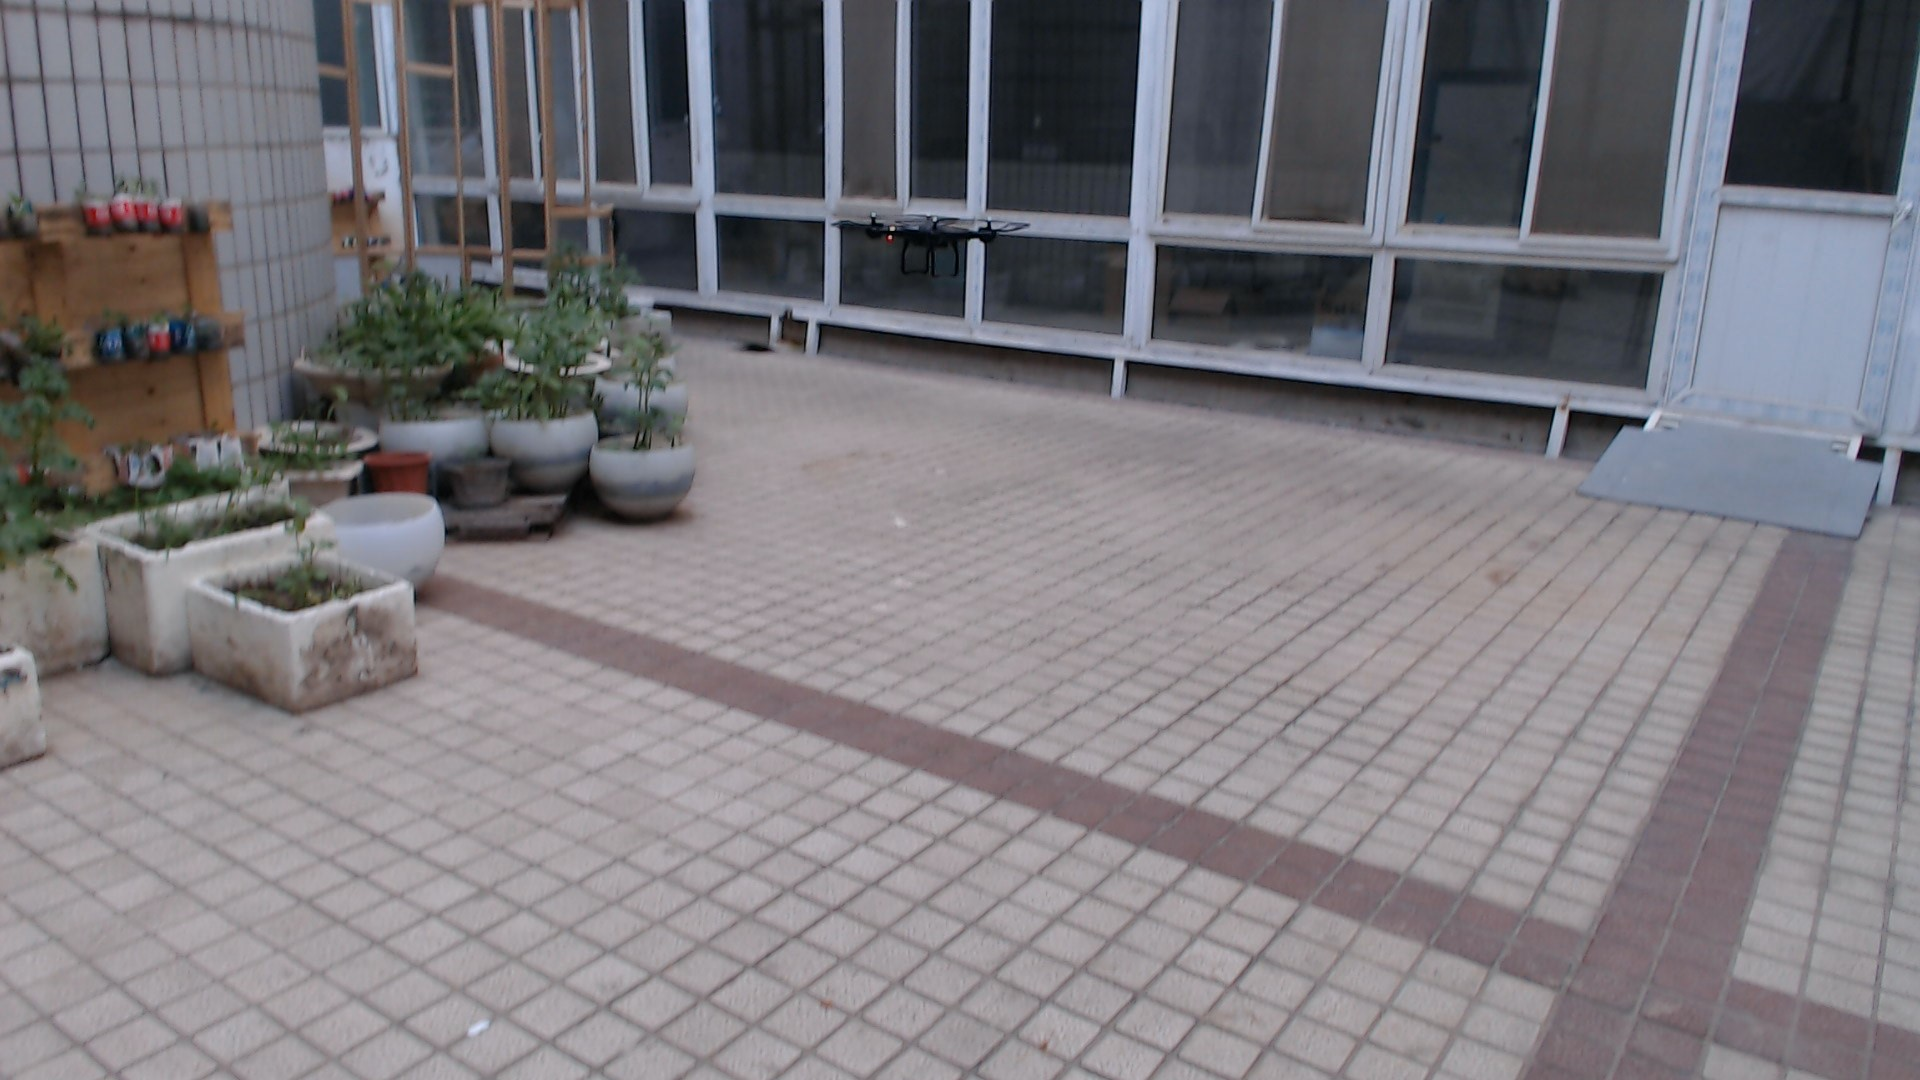drone: (823, 182, 1038, 287)
